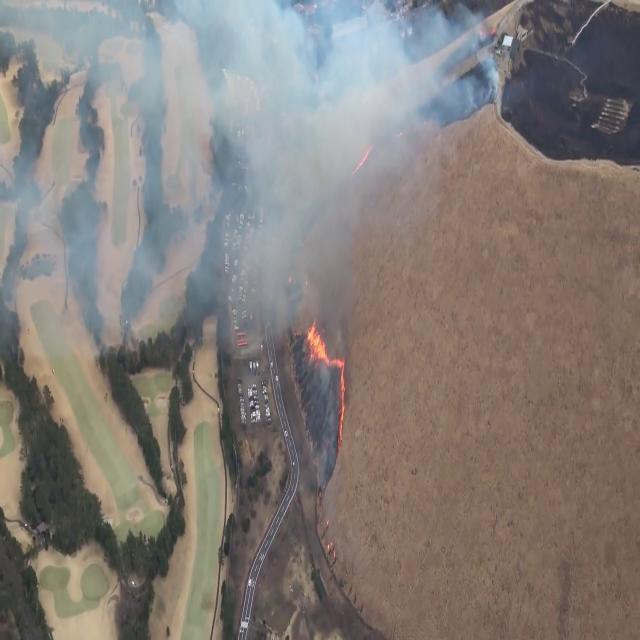Fire: (304, 316, 329, 370)
Smoke: (127, 1, 481, 330)
